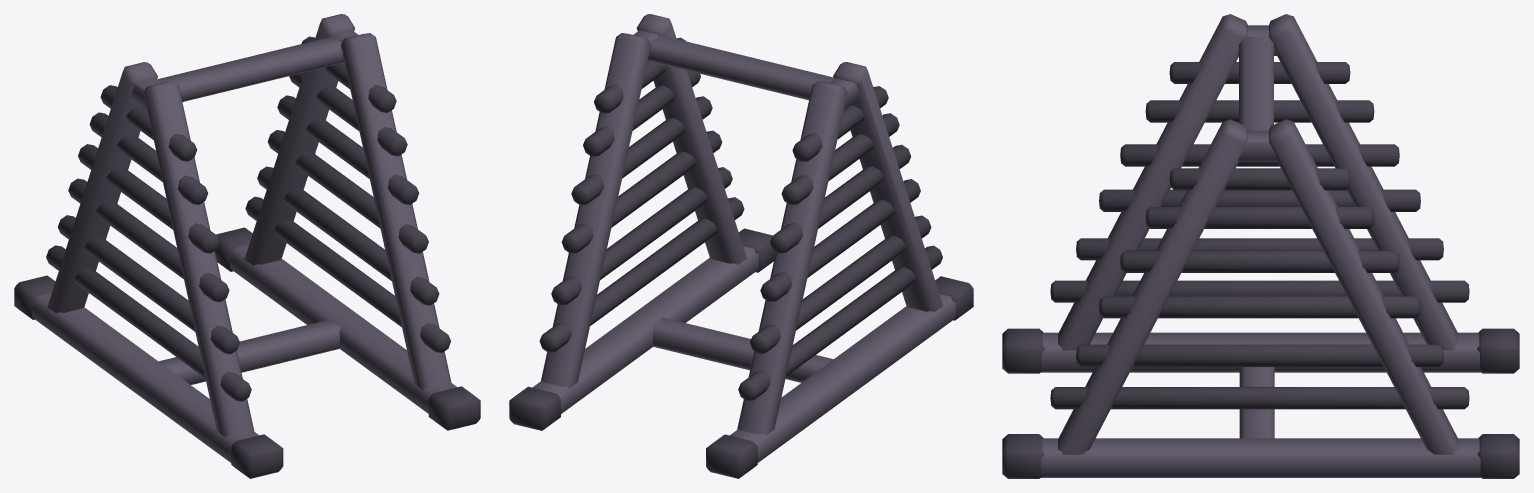
The model's file is Barbell_Rack_v01.fbx.
3 views of the same model, side by side, from view 1: azimuth 30°, elevation 25°; view 2: azimuth 150°, elevation 25°; view 3: azimuth 270°, elevation 25° (orthographic). The views are drawn at different scales.
Parts seen in each view (by area): view 1: Barbell_Rack_v01; view 2: Barbell_Rack_v01; view 3: Barbell_Rack_v01.
Part boxes in pixels (x1=…): Barbell_Rack_v01: x1=14, y1=14, x2=480, y2=478; Barbell_Rack_v01: x1=509, y1=14, x2=973, y2=478; Barbell_Rack_v01: x1=1002, y1=14, x2=1519, y2=478.
Size of the model in its own units: 0.8734 by 1.13 by 1.52.
1 material, 1 textured.
